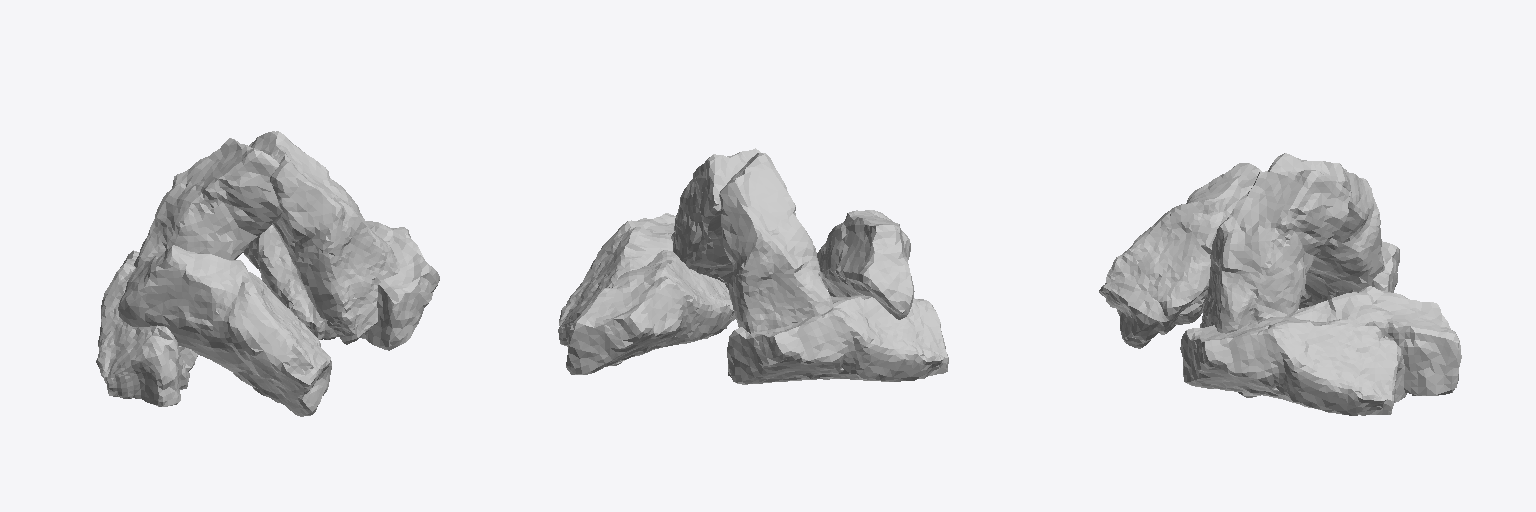
File: RockFormation1.obj
3 renders of one model, left to right at view 1: azimuth 30°, elevation 25°; view 2: azimuth 150°, elevation 25°; view 3: azimuth 270°, elevation 25°, orthographic.
Visible parts, largest first — view 1: Stone_01_Base.005, Stone_01_Base.002, Stone_01_Base.003, Stone_01_Base.004, Stone_01_Base.001, Stone_01_Base; view 2: Stone_01_Base.004, Stone_01_Base.003, Stone_01_Base, Stone_01_Base.005, Stone_01_Base.002, Stone_01_Base.001; view 3: Stone_01_Base.001, Stone_01_Base.002, Stone_01_Base.005, Stone_01_Base, Stone_01_Base.003, Stone_01_Base.004.
Boxes of the visible parts, <box> form: Stone_01_Base.005: <box>118,245,331,416</box>; Stone_01_Base.002: <box>249,131,400,344</box>; Stone_01_Base.003: <box>134,138,281,267</box>; Stone_01_Base.004: <box>96,250,197,406</box>; Stone_01_Base.001: <box>365,221,439,350</box>; Stone_01_Base: <box>243,225,365,339</box>; Stone_01_Base.004: <box>727,295,948,384</box>; Stone_01_Base.003: <box>719,153,832,333</box>; Stone_01_Base: <box>566,250,735,374</box>; Stone_01_Base.005: <box>817,210,914,319</box>; Stone_01_Base.002: <box>671,148,760,289</box>; Stone_01_Base.001: <box>558,213,675,365</box>; Stone_01_Base.001: <box>1180,317,1406,415</box>; Stone_01_Base.002: <box>1200,170,1348,333</box>; Stone_01_Base.005: <box>1099,163,1261,348</box>; Stone_01_Base: <box>1238,286,1461,397</box>; Stone_01_Base.003: <box>1268,153,1384,300</box>; Stone_01_Base.004: <box>1299,241,1399,308</box>.
Bounding box in the file's own units: 15.27 × 9.19 × 14.59.